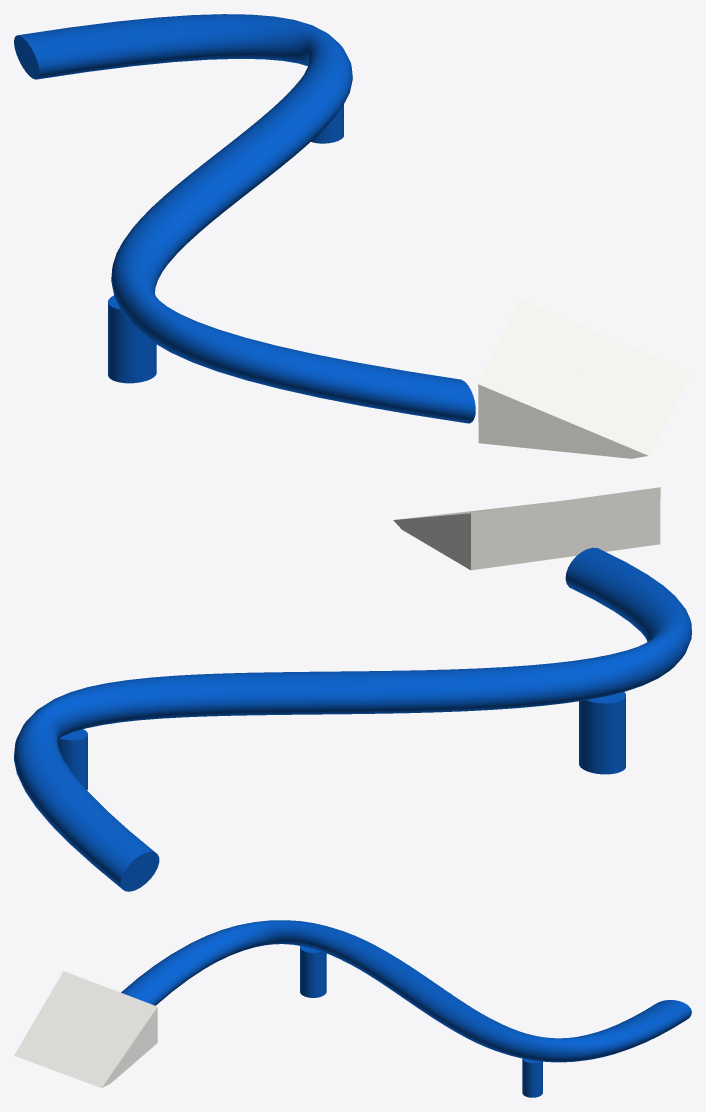
The model's file is S_Rail.fbx.
3 renders of one model, top to bottom at view 1: azimuth 30°, elevation 25°; view 2: azimuth 150°, elevation 25°; view 3: azimuth 270°, elevation 25°, orthographic. The views are drawn at different scales.
Visible parts, largest first — view 1: S Rail; view 2: S Rail; view 3: S Rail.
Part boxes in pixels (left/top/right/bottom): S Rail: left=14, top=14, right=691, bottom=458; S Rail: left=14, top=487, right=691, bottom=891; S Rail: left=14, top=920, right=691, bottom=1097.
Bounding box in the file's own units: 2928 × 725 × 6553.
